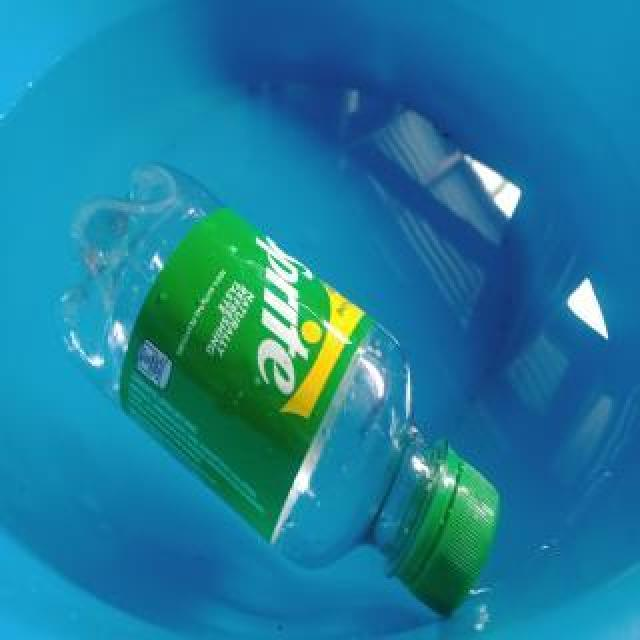bottle: (57, 155, 501, 621)
